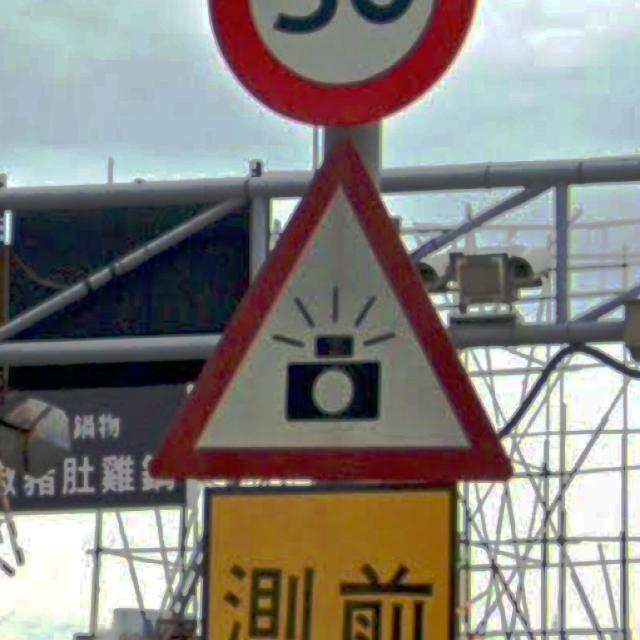speedcamera: (146, 133, 514, 487)
